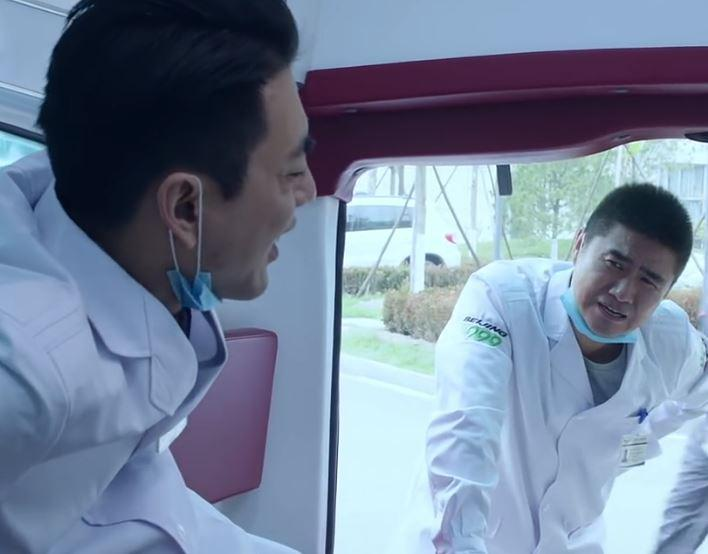WRONG: (212, 103, 319, 302), (574, 242, 669, 341)
